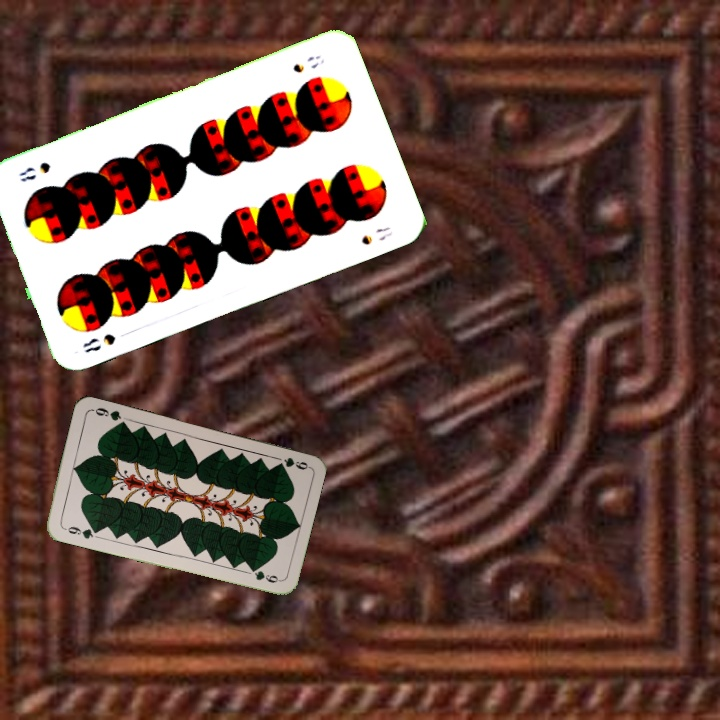G9: (59, 522, 100, 542), (280, 453, 311, 472)
S8: (78, 329, 118, 356), (289, 51, 327, 76)
